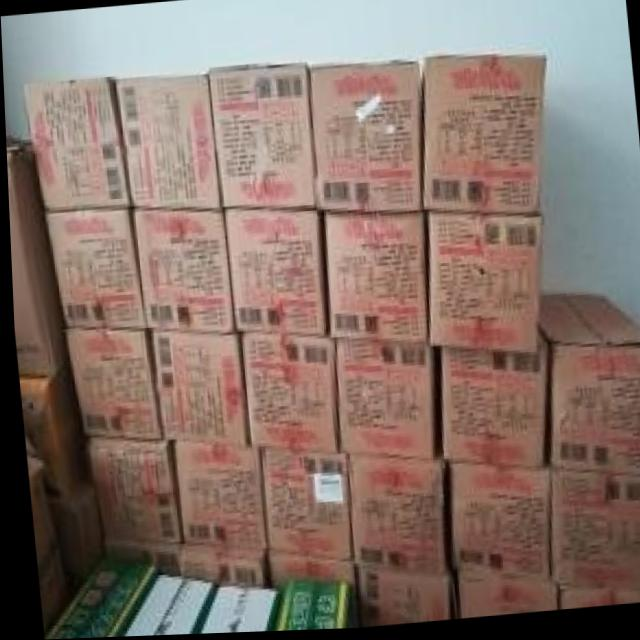box: (422, 60, 545, 218), (538, 298, 640, 479), (425, 215, 541, 358), (309, 64, 420, 213), (208, 67, 315, 212), (5, 138, 67, 377), (437, 338, 544, 475), (115, 75, 221, 212), (23, 77, 130, 212), (322, 215, 426, 350), (221, 212, 324, 338), (444, 465, 546, 588), (131, 210, 231, 333), (343, 456, 441, 579), (545, 471, 640, 597), (43, 211, 143, 329), (335, 343, 429, 463), (148, 332, 244, 449), (240, 336, 334, 454), (62, 330, 157, 442), (257, 451, 348, 563), (170, 441, 263, 550), (16, 359, 86, 502), (83, 439, 177, 545), (39, 558, 152, 640), (263, 550, 354, 630), (350, 569, 452, 630), (117, 577, 209, 637), (452, 575, 552, 622), (265, 578, 349, 633), (190, 586, 274, 635), (174, 545, 264, 588), (98, 540, 177, 581)
